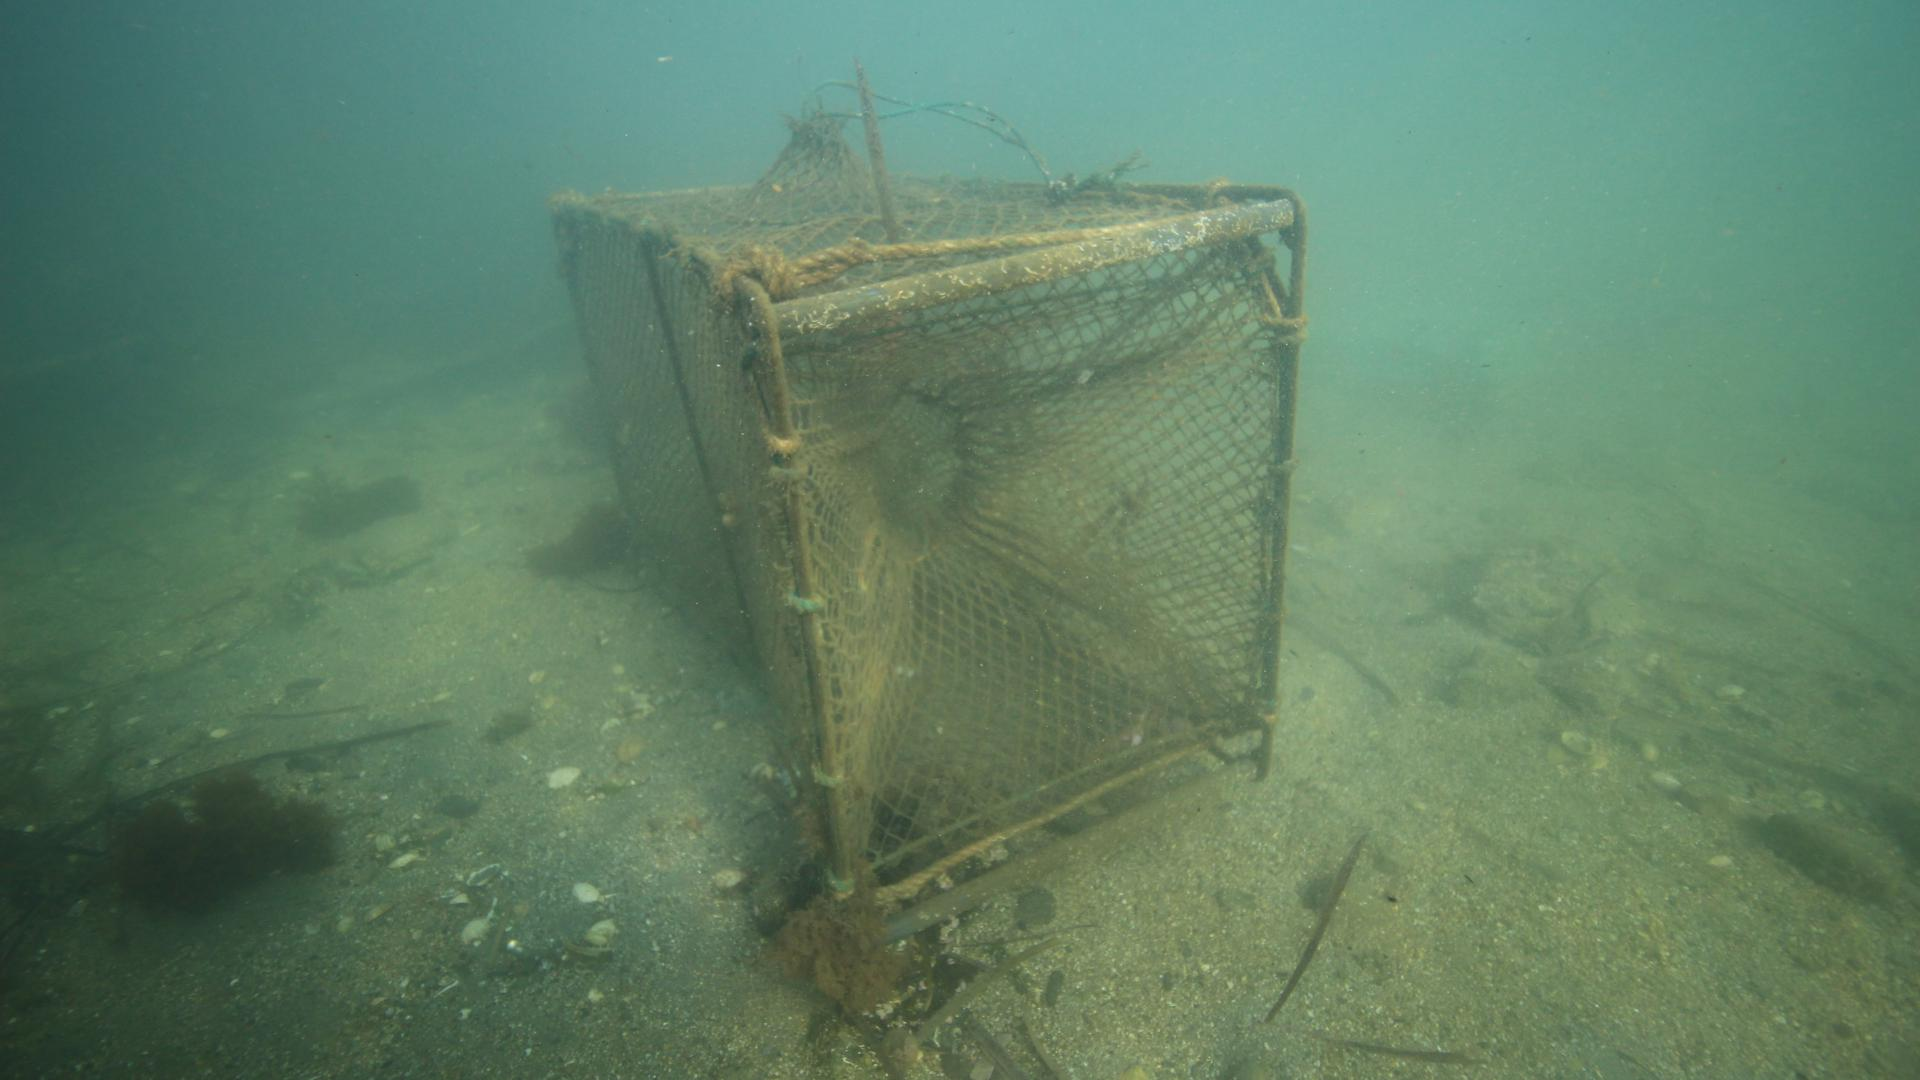rectangular fish trap: (551, 167, 1305, 949)
